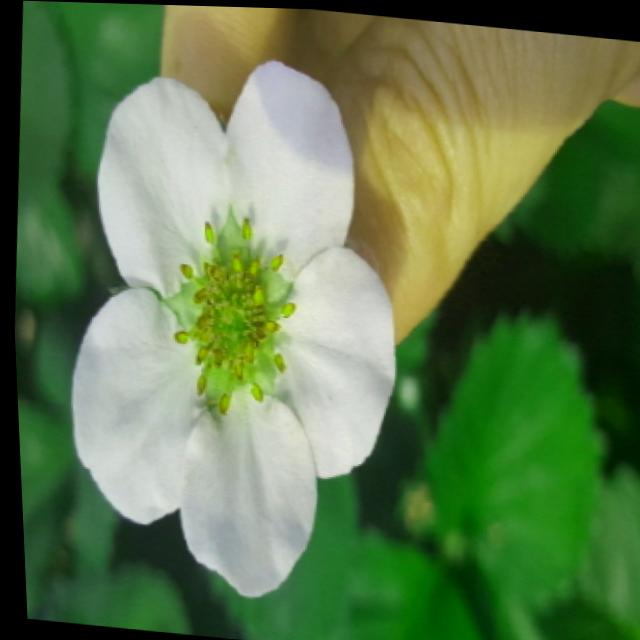Blossom Blight: (152, 194, 299, 422)
